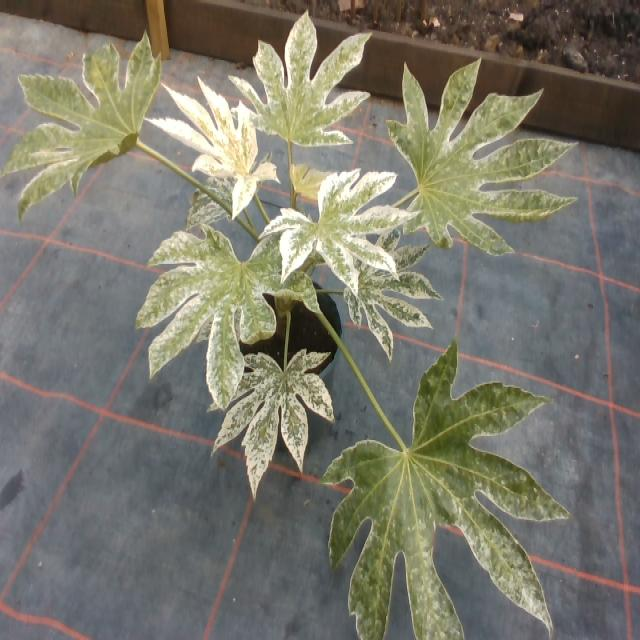Fatsia-japonica: (301, 340, 570, 640), (383, 61, 548, 261), (136, 202, 310, 391), (0, 41, 171, 214), (227, 18, 372, 161), (269, 156, 400, 305), (222, 332, 330, 497), (151, 64, 271, 208), (336, 222, 452, 358), (284, 156, 345, 207)
